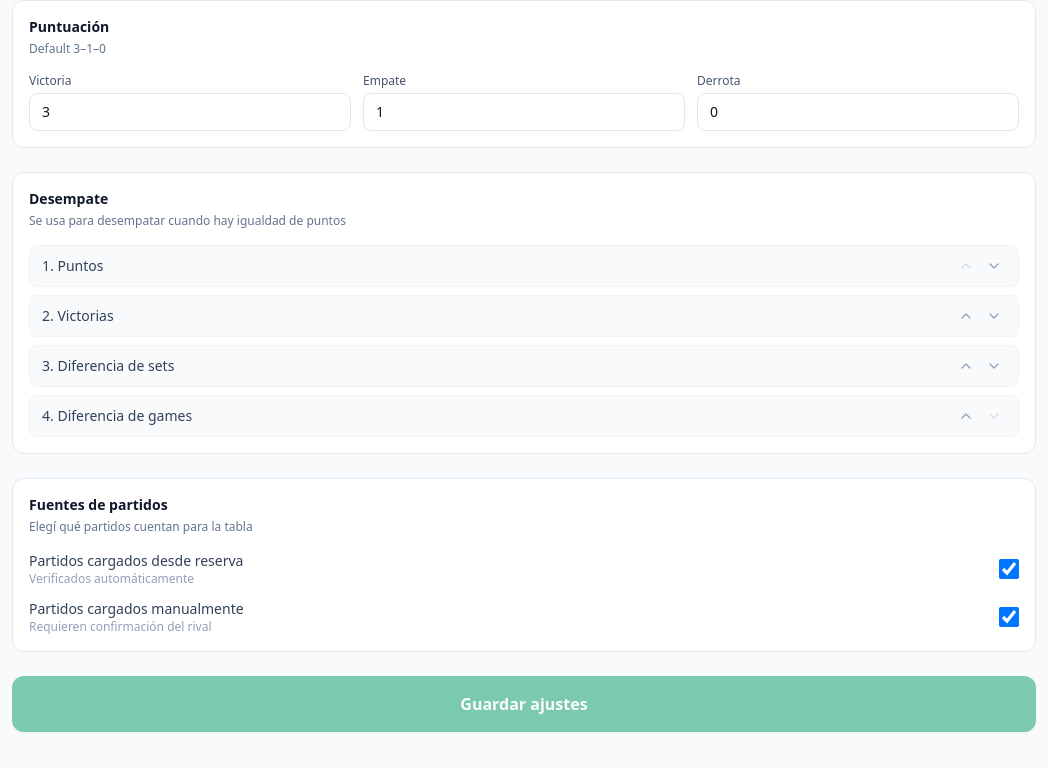
Scenario: LeagueSettingsPanel › toggles source checkbox
The width and height of the screenshot is (1048, 768).
// Toggle manual off
Click the 2nd checkbox.
click(1009, 617)  # box x1=999 y1=607 x2=1019 y2=627
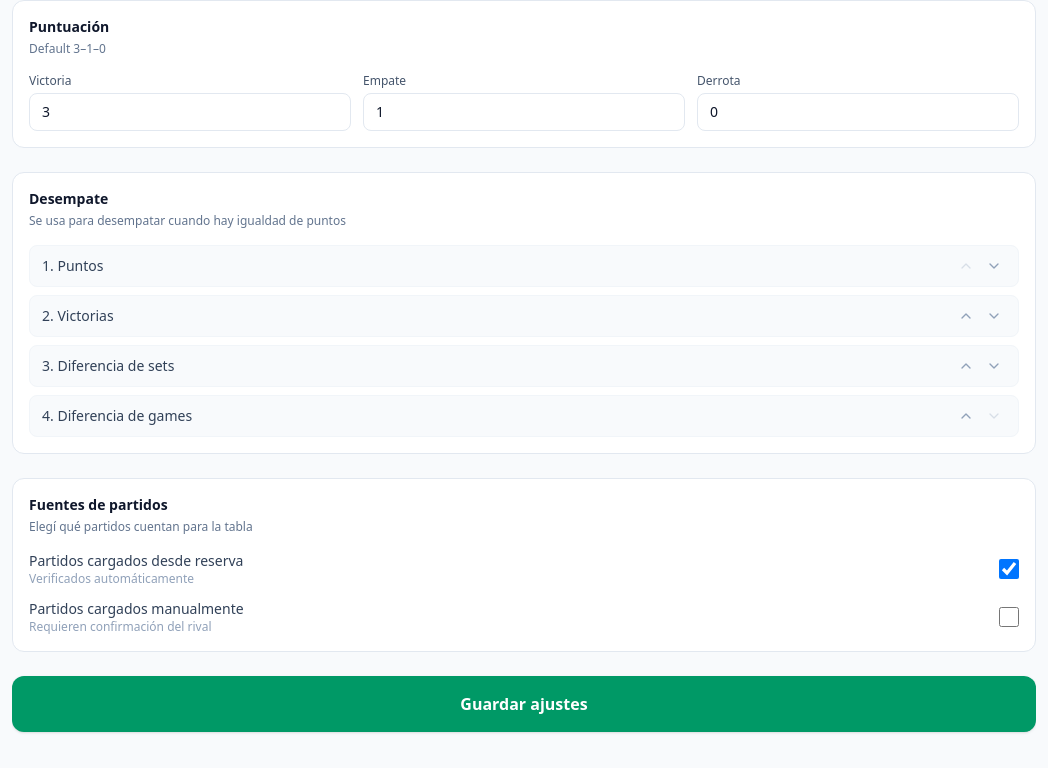
Expected: the button "Guardar ajustes" is enabled, x1=12 y1=676 x2=1036 y2=732
